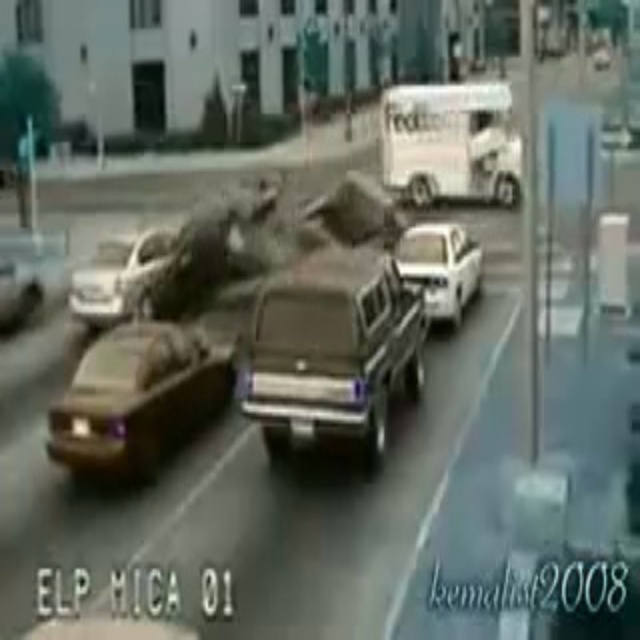acc: (61, 163, 398, 326)
